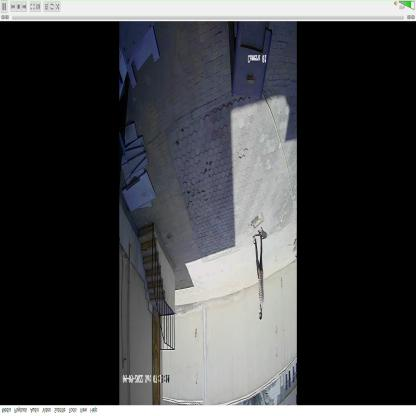handgun: (254, 254, 261, 278)
